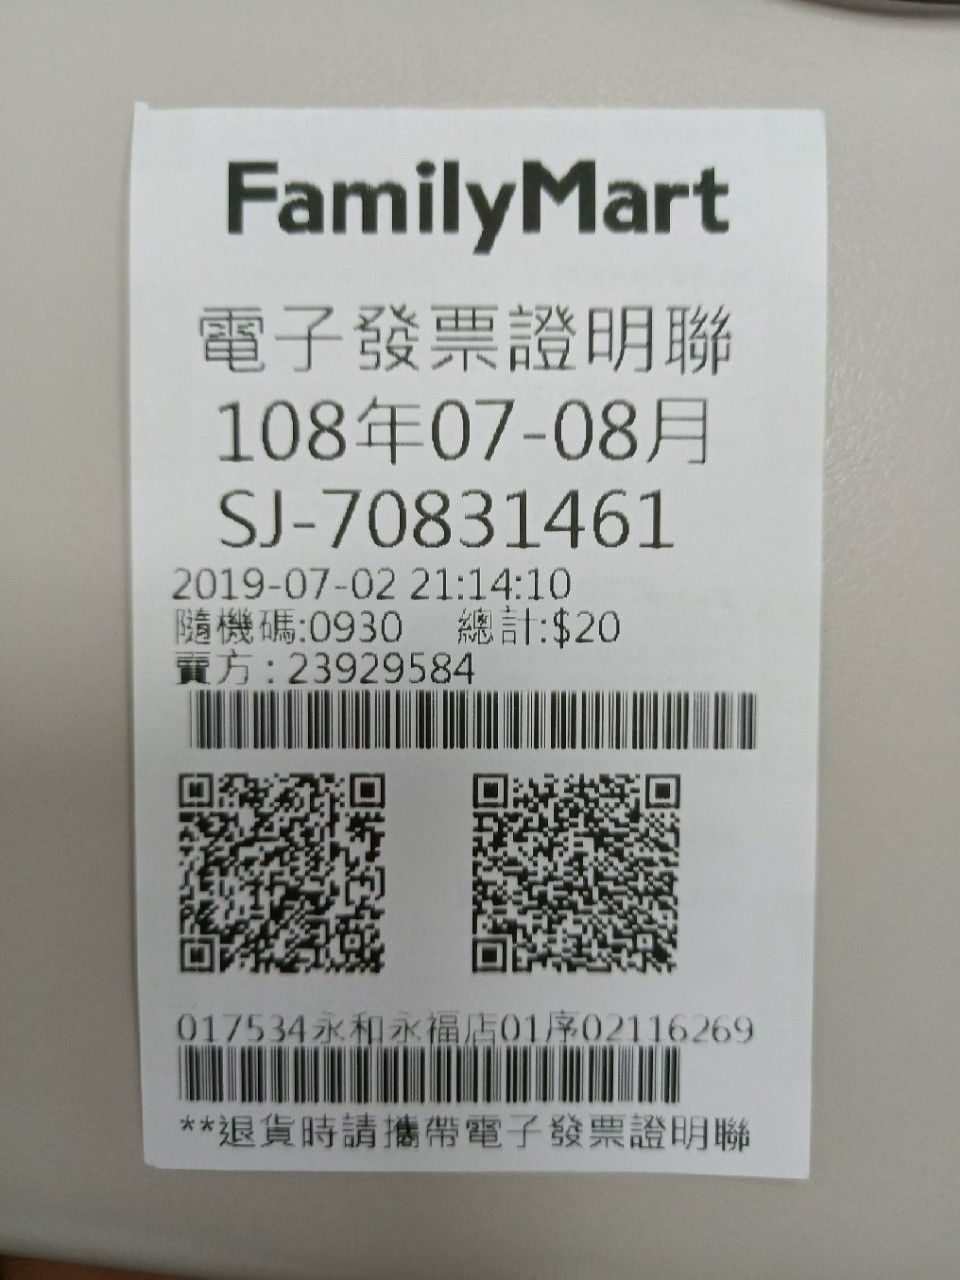Date_New: (210, 392, 714, 467)
Number_New: (320, 482, 678, 553)
